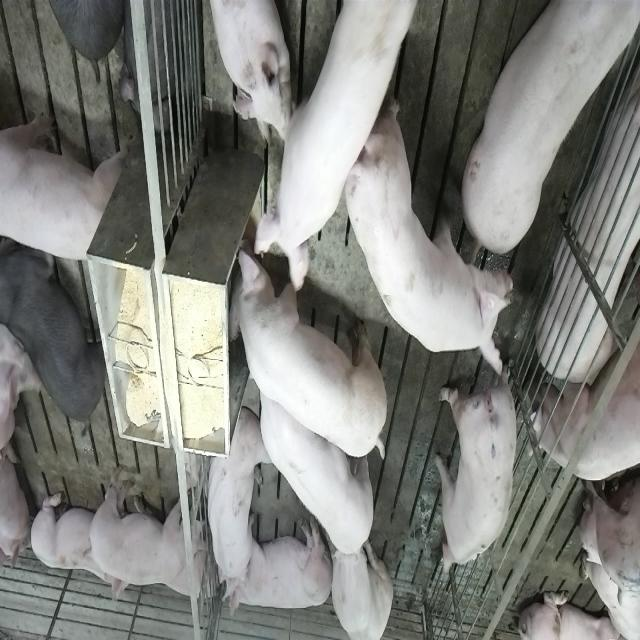Feeding: (252, 0, 436, 290), (221, 237, 385, 466)
Lateral_lying: (538, 32, 640, 400), (223, 514, 334, 618)
Sitting: (326, 523, 394, 639)
Standing: (338, 90, 512, 372), (464, 0, 640, 256), (250, 360, 378, 560), (2, 102, 128, 266), (3, 234, 108, 422), (433, 362, 519, 582), (86, 458, 212, 590), (533, 337, 640, 479)
Sternal_lying: (202, 406, 266, 600), (205, 0, 289, 144), (30, 487, 125, 609)
